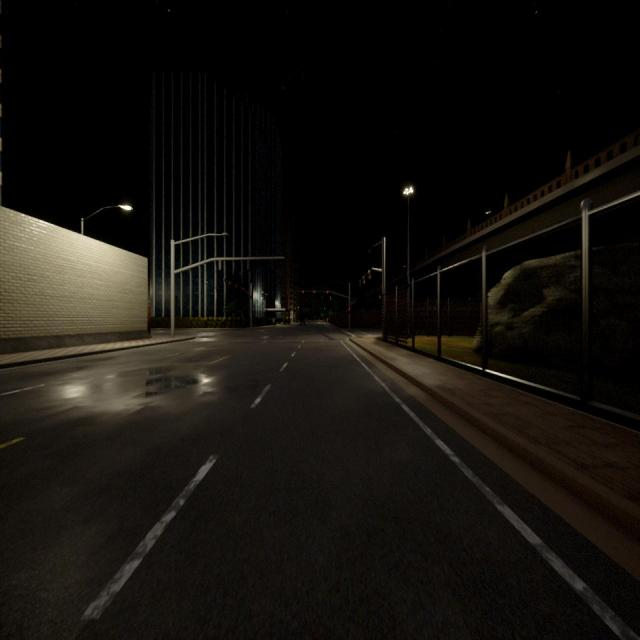Vehicle: (283, 318, 290, 325), (300, 319, 306, 325)
traffic_light: (362, 276, 365, 284), (368, 270, 370, 279), (348, 307, 350, 314), (228, 281, 231, 285), (379, 295, 382, 299), (235, 284, 237, 288), (326, 290, 328, 294), (313, 291, 315, 294), (242, 288, 244, 290), (302, 291, 304, 293)
